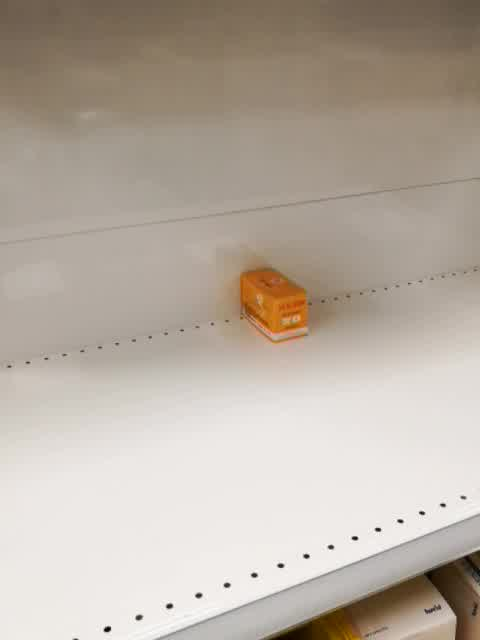jasminetea: (238, 264, 311, 345)
